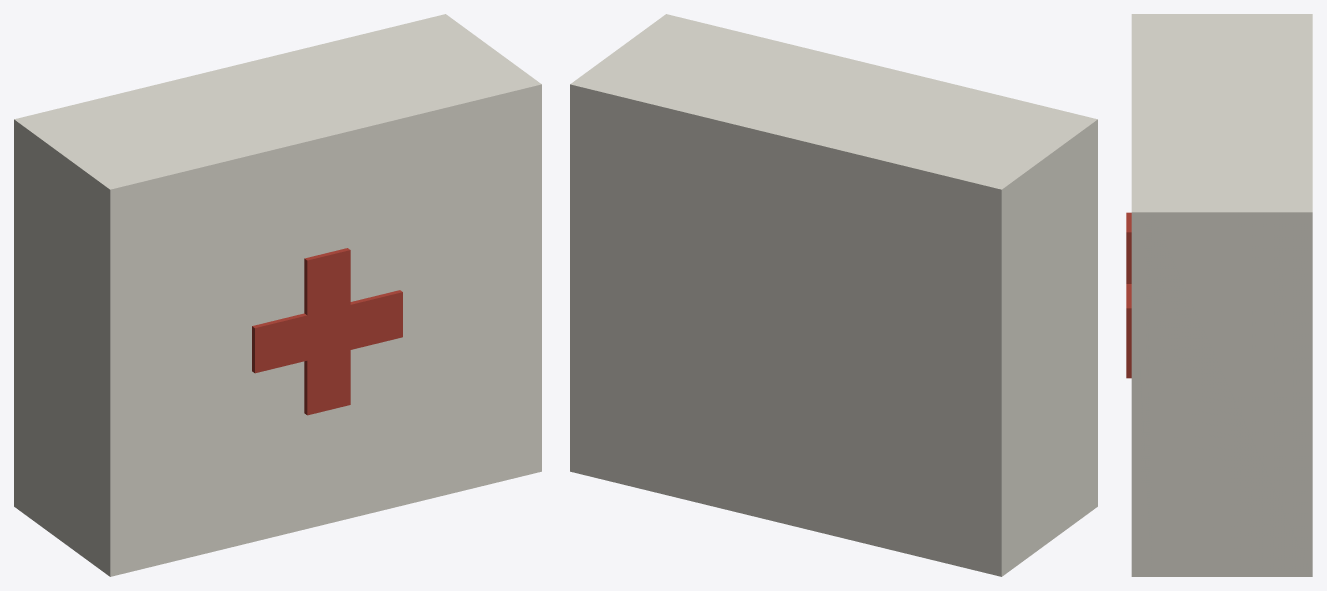
Rendered from first_aid_box.glb.
The picture shows the model from 3 angles, left to right: view 1: azimuth 30°, elevation 25°; view 2: azimuth 150°, elevation 25°; view 3: azimuth 270°, elevation 25°; orthographic projection. The views are drawn at different scales.
Parts seen in each view (by area): view 1: Leaf, Box, Cross; view 2: Box, Leaf; view 3: Box, Leaf, Cross.
Boxes of the visible parts, <box> form: Leaf: <box>99,76,541,576</box>; Box: <box>14,14,530,568</box>; Cross: <box>252,248,402,415</box>; Box: <box>570,22,1087,576</box>; Leaf: <box>656,14,1097,513</box>; Box: <box>1151,14,1312,576</box>; Leaf: <box>1131,14,1151,576</box>; Cross: <box>1126,212,1131,378</box>.
Size of what is drawn, in the model's own units: 0.35 by 0.3 by 0.139.
